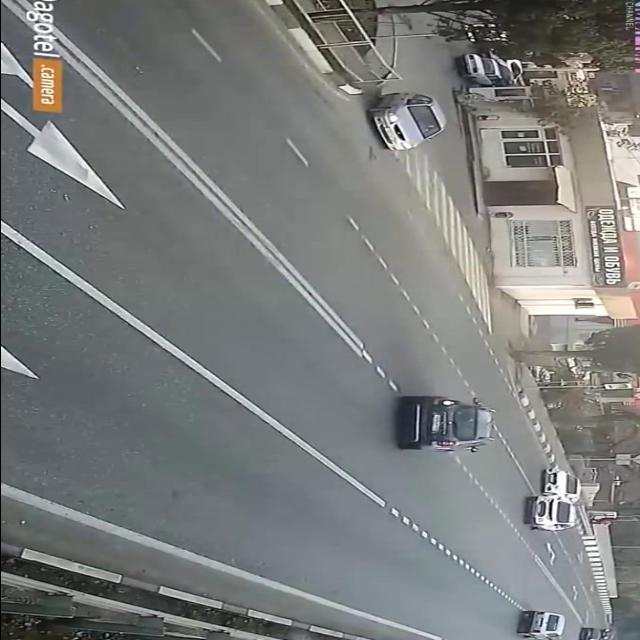non_accident: (517, 465, 591, 535)
